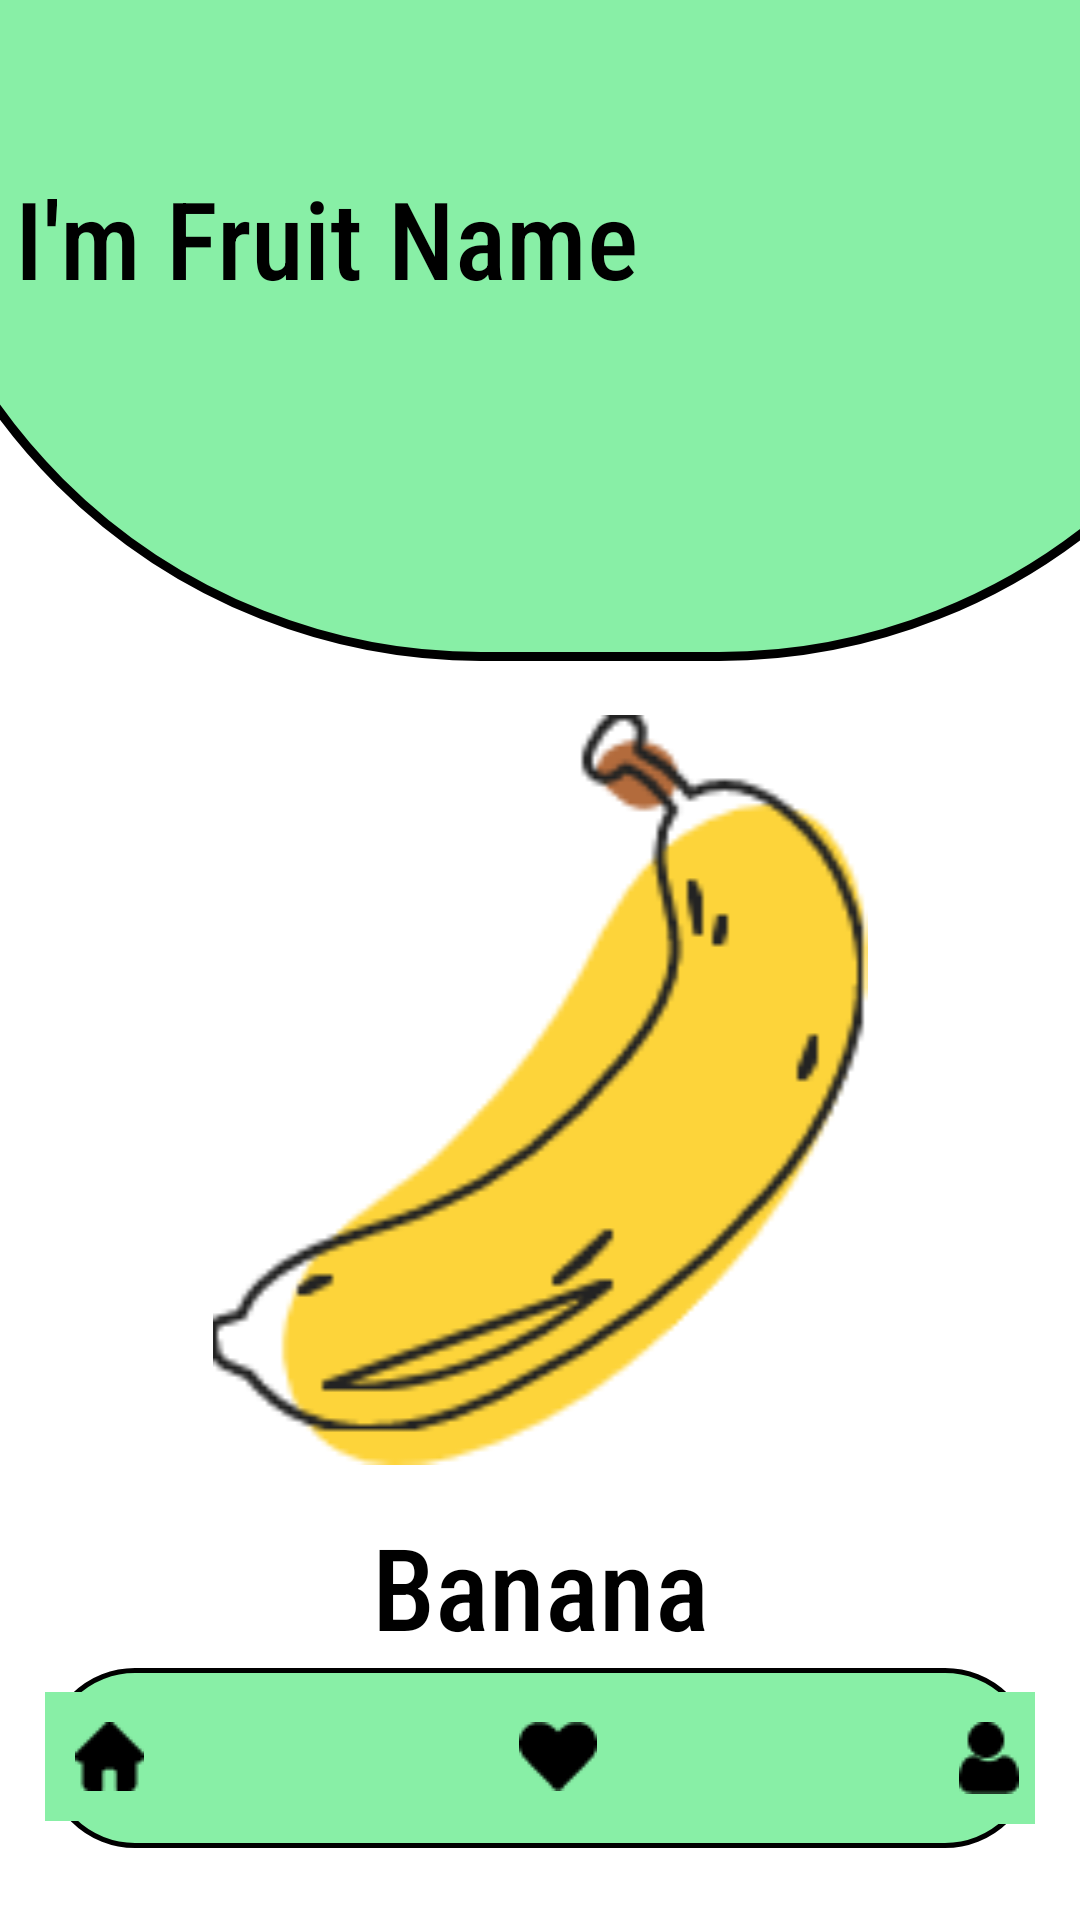

Locate icon controls on the screen. Image size 1080 × 1920, boxes as (x1, y1, x2, y2).
basemenuheart: (519, 1722, 597, 1791)
basemenuhome: (75, 1722, 144, 1791)
basemenuuser: (959, 1722, 1019, 1794)
